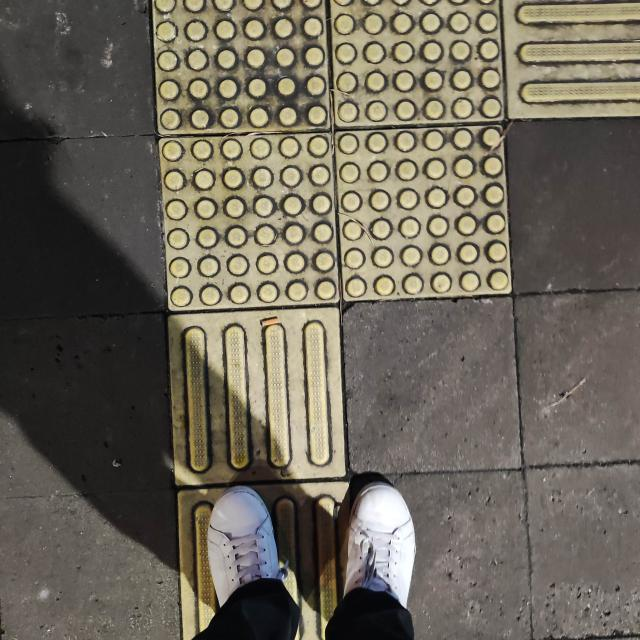kanan: (81, 0, 640, 439)
